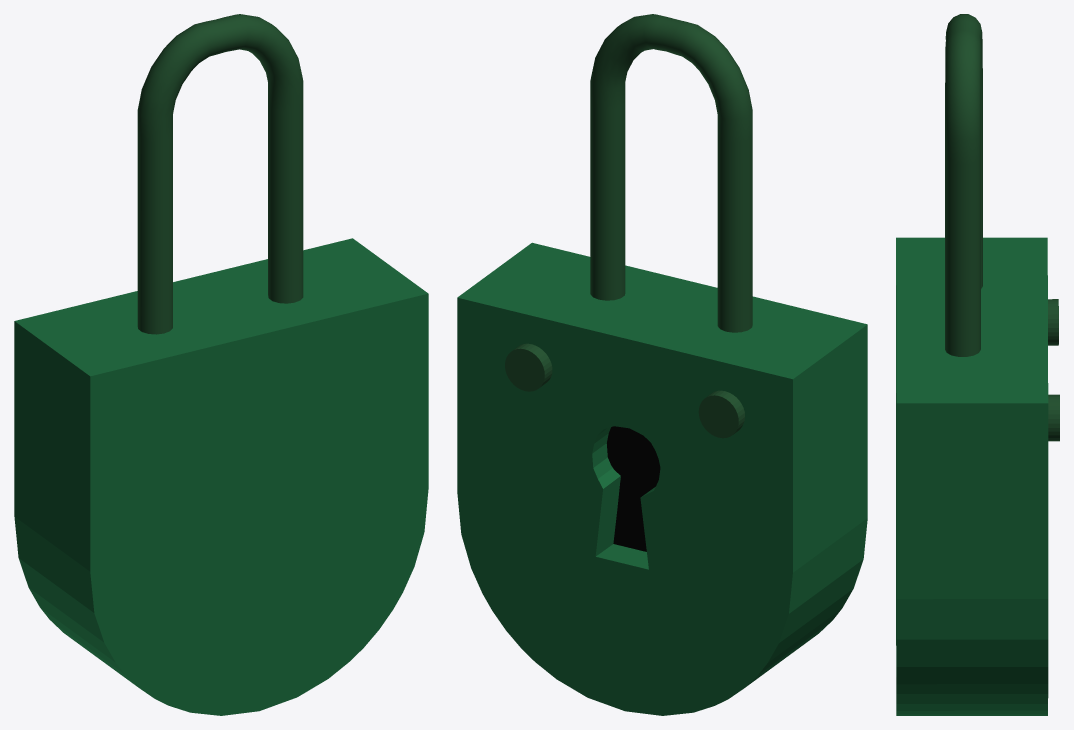
Rendered from GreenLock.glb.
3 renders of one model, left to right at view 1: azimuth 30°, elevation 25°; view 2: azimuth 150°, elevation 25°; view 3: azimuth 270°, elevation 25°, orthographic.
Visible parts, largest first — view 1: Plane.002, Plane.006; view 2: Plane.002, Plane.006, Plane.005, Cylinder.003; view 3: Plane.002, Plane.006, Cylinder.003.
Boxes of the visible parts, x1,y1,x2,y2 form: Plane.002: [14, 238, 428, 715]; Plane.006: [137, 14, 303, 334]; Plane.002: [457, 242, 867, 715]; Plane.006: [590, 14, 752, 332]; Plane.005: [606, 426, 660, 551]; Cylinder.003: [505, 343, 744, 438]; Plane.002: [896, 237, 1048, 715]; Plane.006: [945, 14, 982, 356]; Cylinder.003: [1048, 299, 1059, 441].
Bounding box in the file's own units: 6.12 × 11.52 × 2.56.
